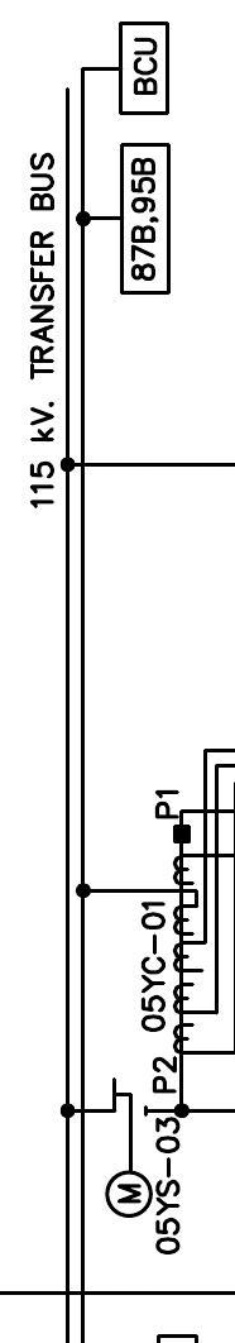115_1way_ds_w_motor: (103, 1076, 154, 1219)
BCU: (118, 20, 170, 116)
